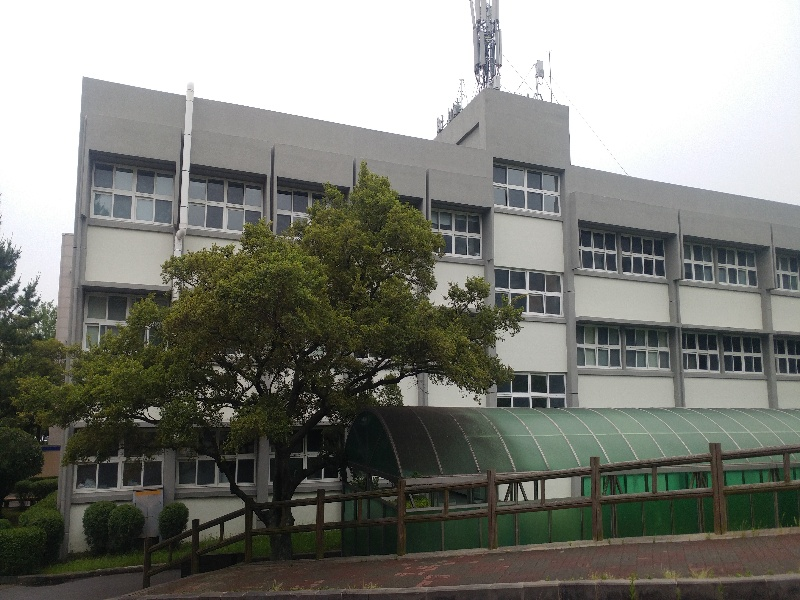Cultural lecture hall: (79, 13, 792, 487), (129, 198, 781, 402)
